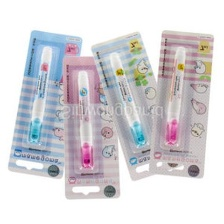book: (85, 30, 184, 183), (6, 28, 83, 181), (146, 28, 217, 181), (60, 54, 122, 204)
correction_fluid: (107, 50, 147, 152), (23, 44, 55, 146), (161, 43, 189, 148), (74, 67, 95, 171)
